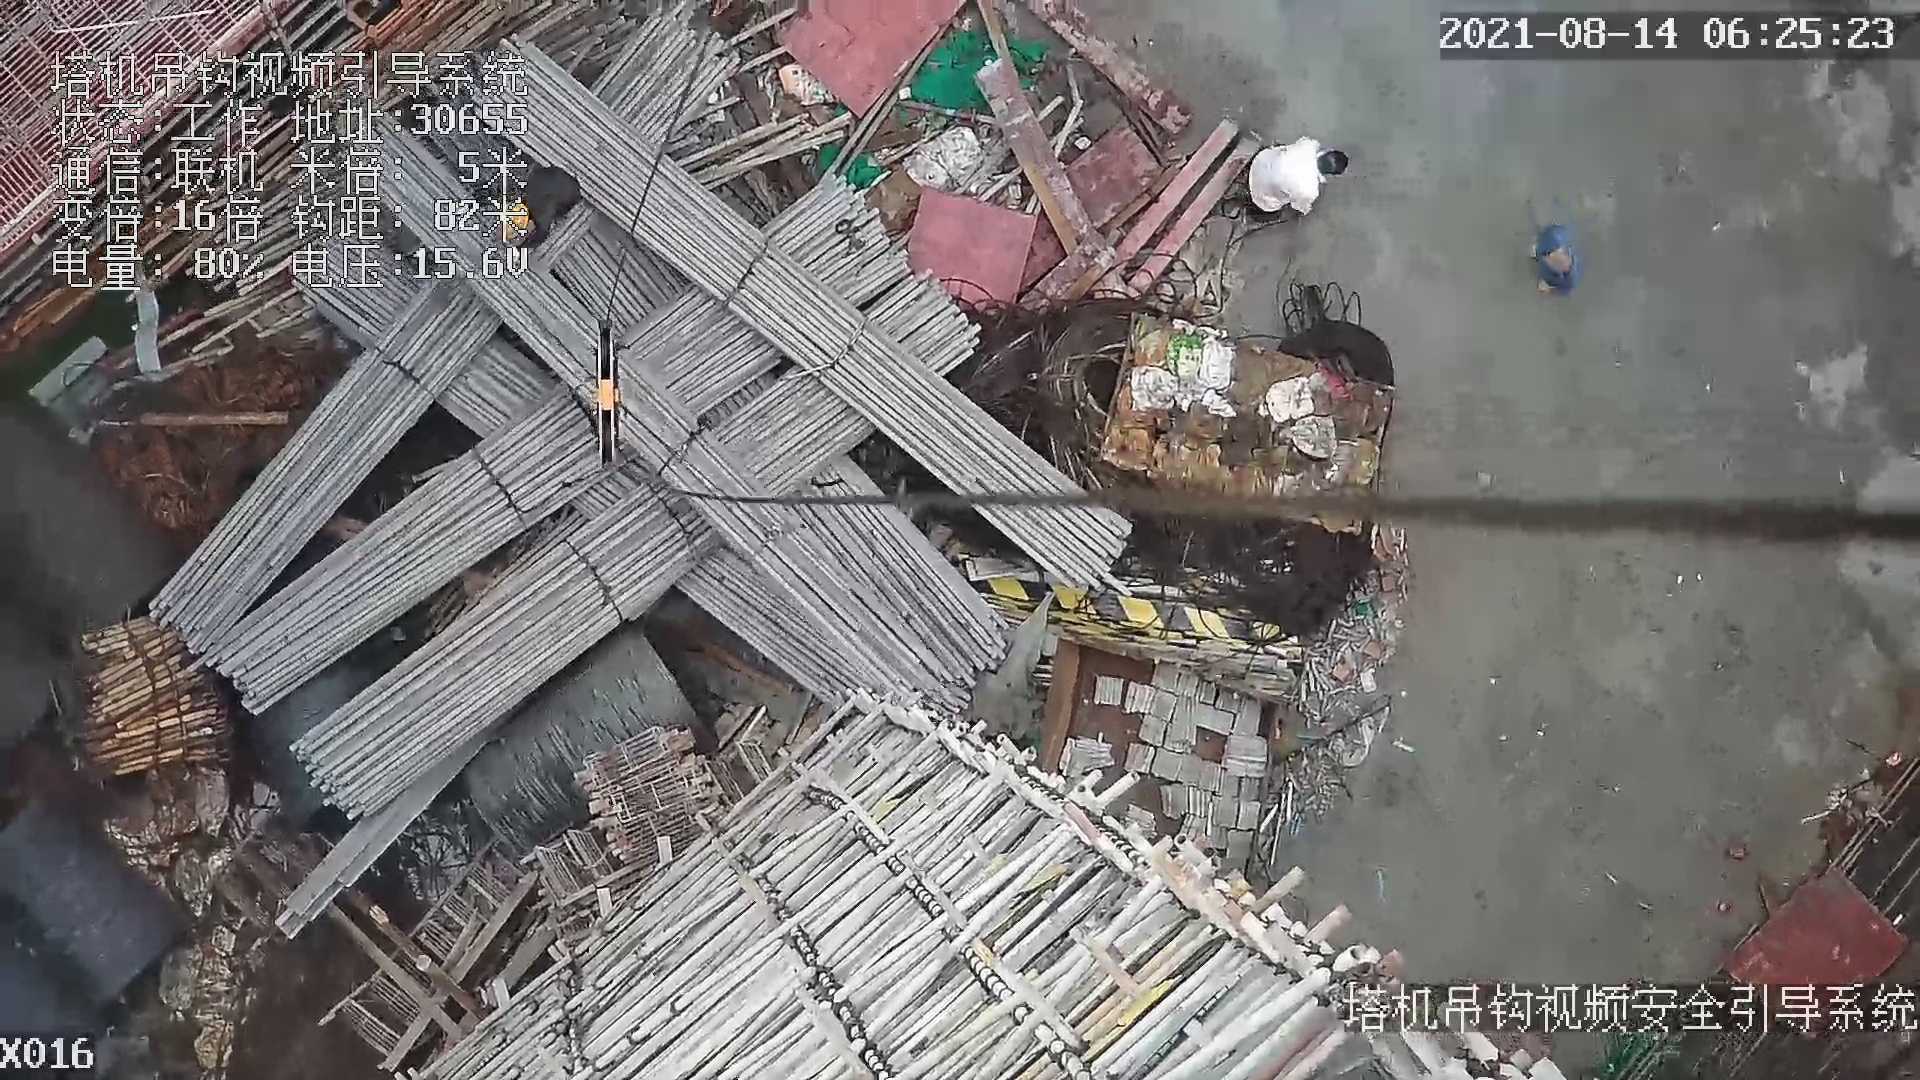person: (1247, 140, 1351, 221), (497, 165, 582, 250), (1531, 221, 1578, 303)
